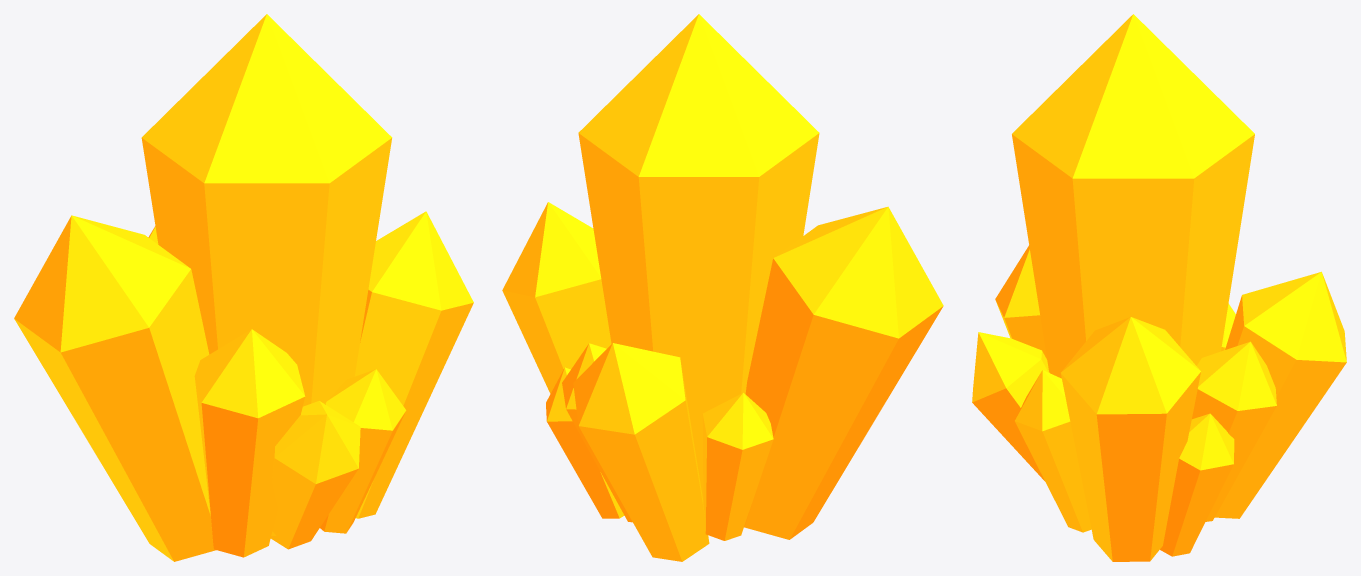
Rendered from Cristal1.fbx.
3 views of the same model, side by side, from view 1: azimuth 30°, elevation 25°; view 2: azimuth 150°, elevation 25°; view 3: azimuth 270°, elevation 25° (orthographic). The views are drawn at different scales.
Visible parts, largest first — view 1: Cristal.002; view 2: Cristal.002; view 3: Cristal.002.
Part boxes in pixels (box(x1,y1,x2,y2)): Cristal.002: box(14, 14, 473, 561); Cristal.002: box(502, 14, 943, 561); Cristal.002: box(972, 14, 1346, 561).
Size of the model in its own units: 588 by 703 by 470.
